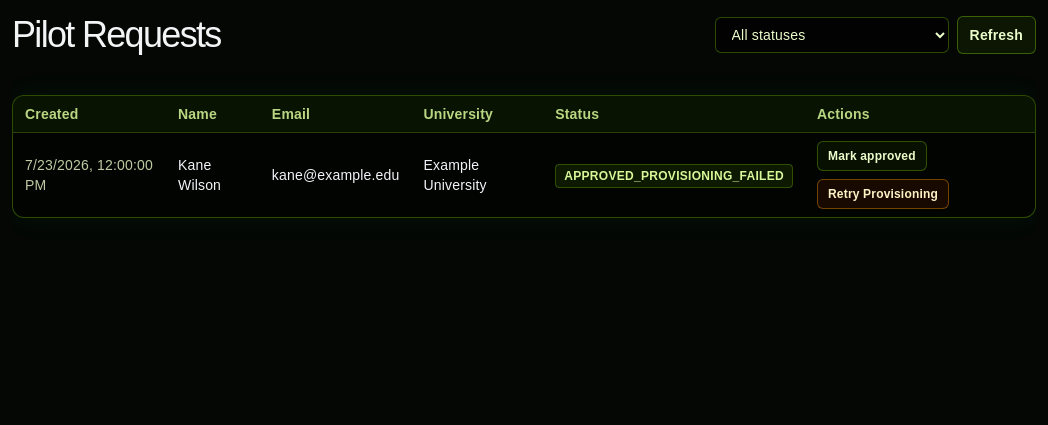
it: PilotRequestsAdminPage › uses the approve-and-provision mutation to retry failed provisioning
Click the button "Retry Provisioning": [883, 194] box [817,179,949,209]
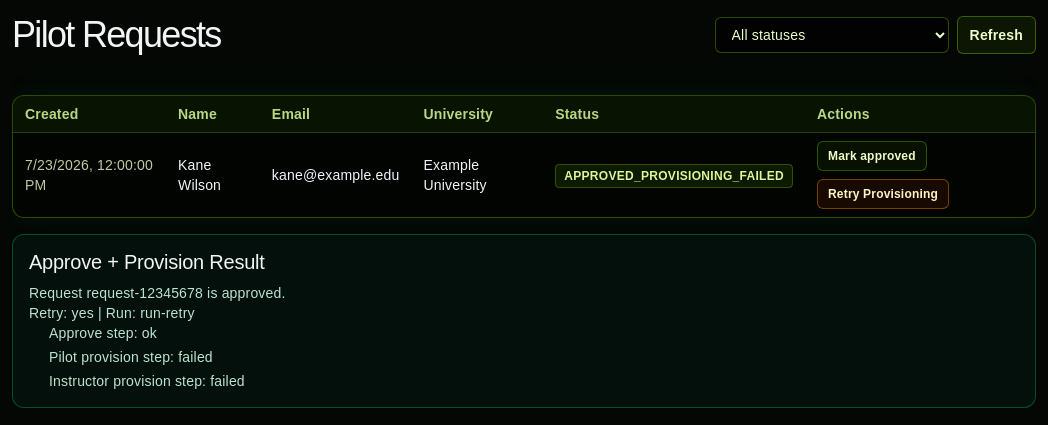
Expected: the text "Retry: yes | Run: run-retry" is shown, [29,305,195,321]
